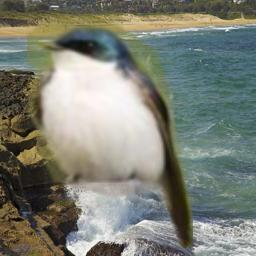Swallow: (27, 18, 193, 248)
